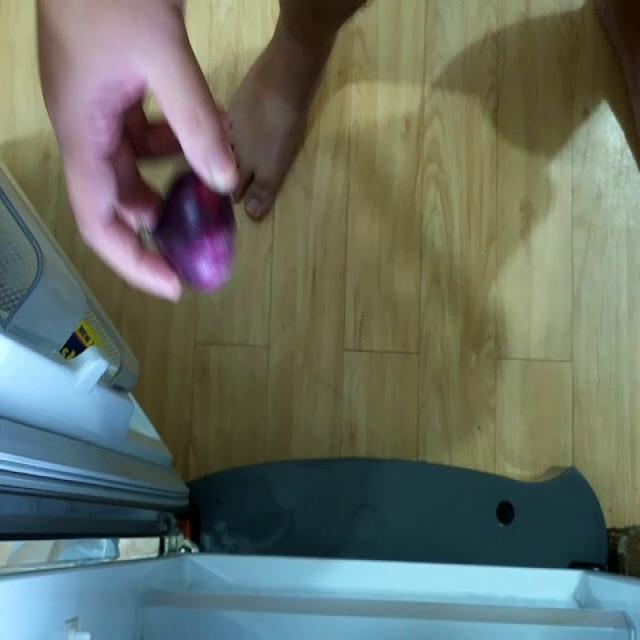onion: (154, 170, 236, 292)
